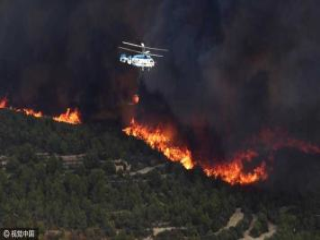fire: (126, 120, 276, 190), (7, 91, 89, 126)
smoke: (161, 7, 302, 117)
